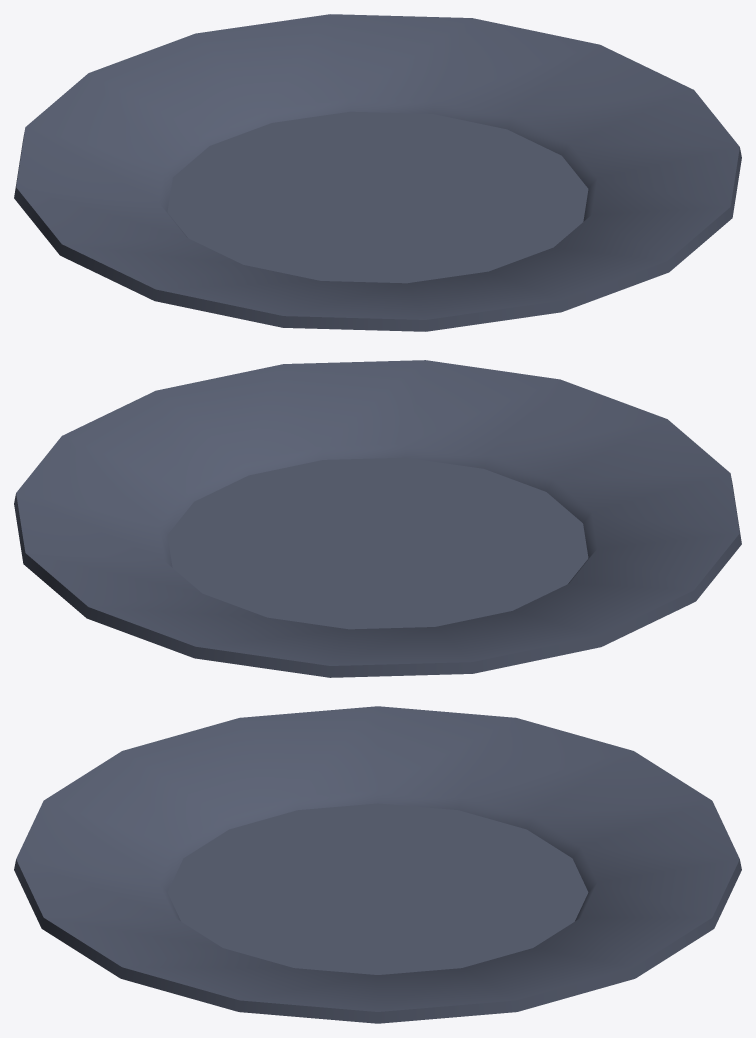
The model's file is Plate.FBX.
3 renders of one model, top to bottom at view 1: azimuth 30°, elevation 25°; view 2: azimuth 150°, elevation 25°; view 3: azimuth 270°, elevation 25°, orthographic.
Parts seen in each view (by area): view 1: Plate; view 2: Plate; view 3: Plate.
Boxes of the visible parts, <box> form: Plate: <box>14,14,741,331</box>; Plate: <box>14,360,741,677</box>; Plate: <box>14,706,741,1023</box>.
Bounding box in the file's own units: 60 × 3.89 × 60.
